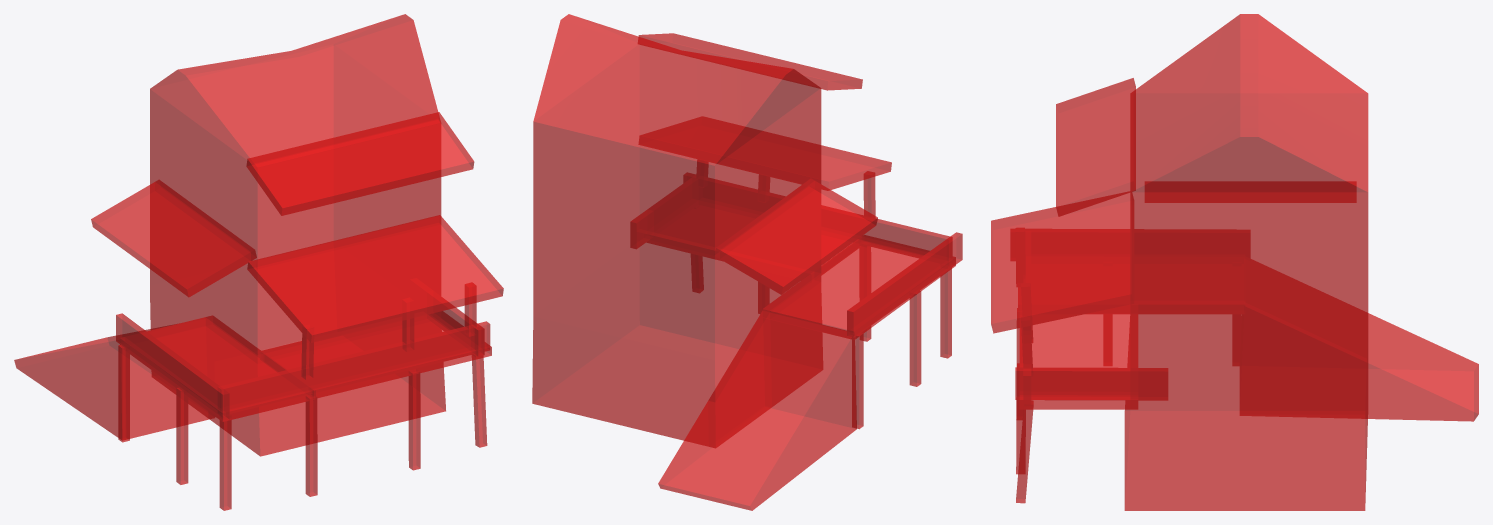
File: SM_Bld_Shanty_Preset_05_Collision.fbx
The picture shows the model from 3 angles, left to right: view 1: azimuth 30°, elevation 25°; view 2: azimuth 150°, elevation 25°; view 3: azimuth 270°, elevation 25°; orthographic projection. The views are drawn at different scales.
Visible parts, largest first — view 1: SM_Bld_Shanty_Preset_05_Collision; view 2: SM_Bld_Shanty_Preset_05_Collision; view 3: SM_Bld_Shanty_Preset_05_Collision.
Boxes of the visible parts, left/top/right/bottom form: SM_Bld_Shanty_Preset_05_Collision: left=14, top=14, right=503, bottom=510; SM_Bld_Shanty_Preset_05_Collision: left=532, top=14, right=962, bottom=510; SM_Bld_Shanty_Preset_05_Collision: left=991, top=14, right=1478, bottom=510.
Size of the model in its own units: 803 by 922 by 1041.
